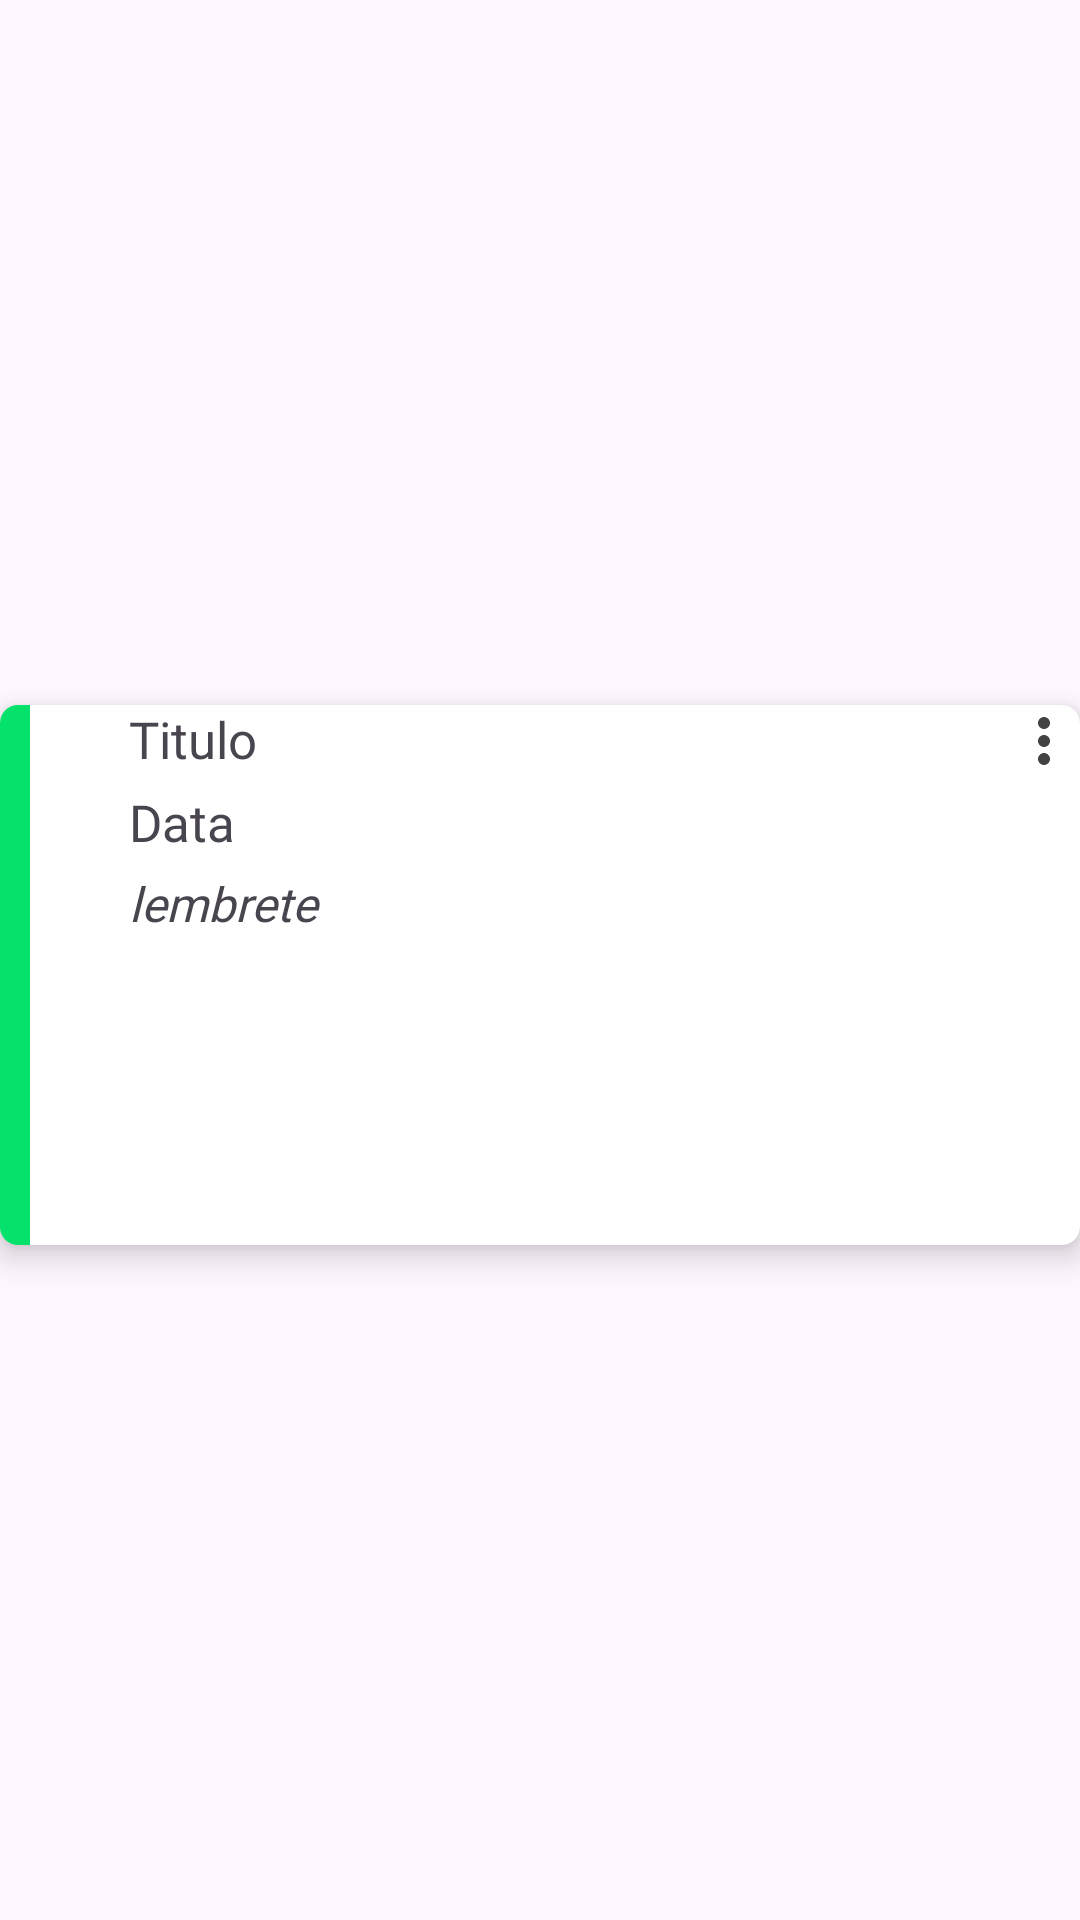

Locate icon controls on the screen. Image size 1080 x 1920, boxes as Rect(x1, y1, x2, y2).
image more: Rect(1038, 707, 1080, 765)
